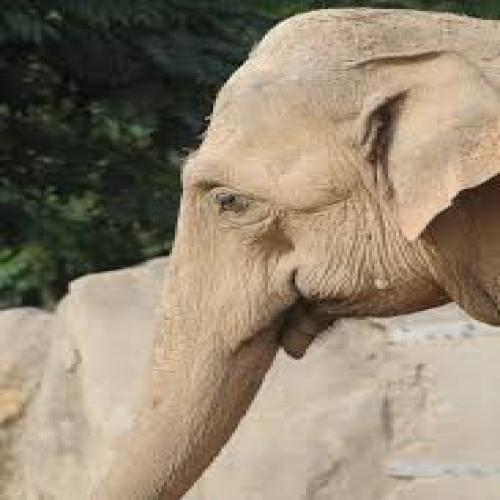asian_elephant-endangered: (100, 8, 500, 495)
